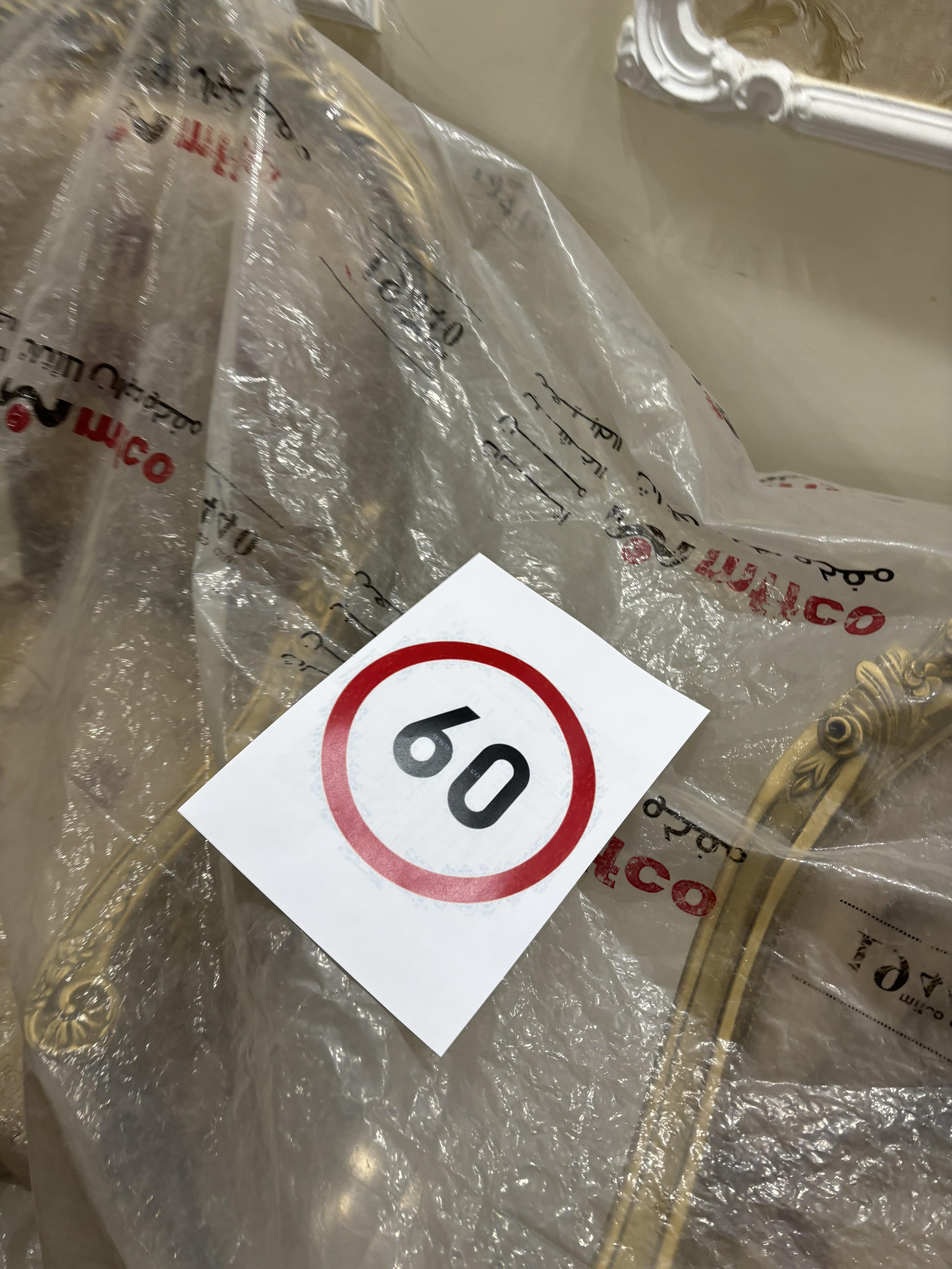60-Speed: (323, 634, 593, 906)
